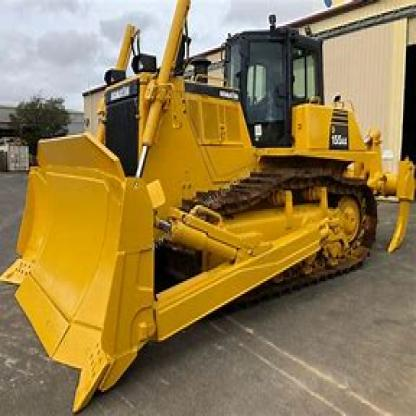bull_dozer/loader/grader: (7, 0, 409, 409)
